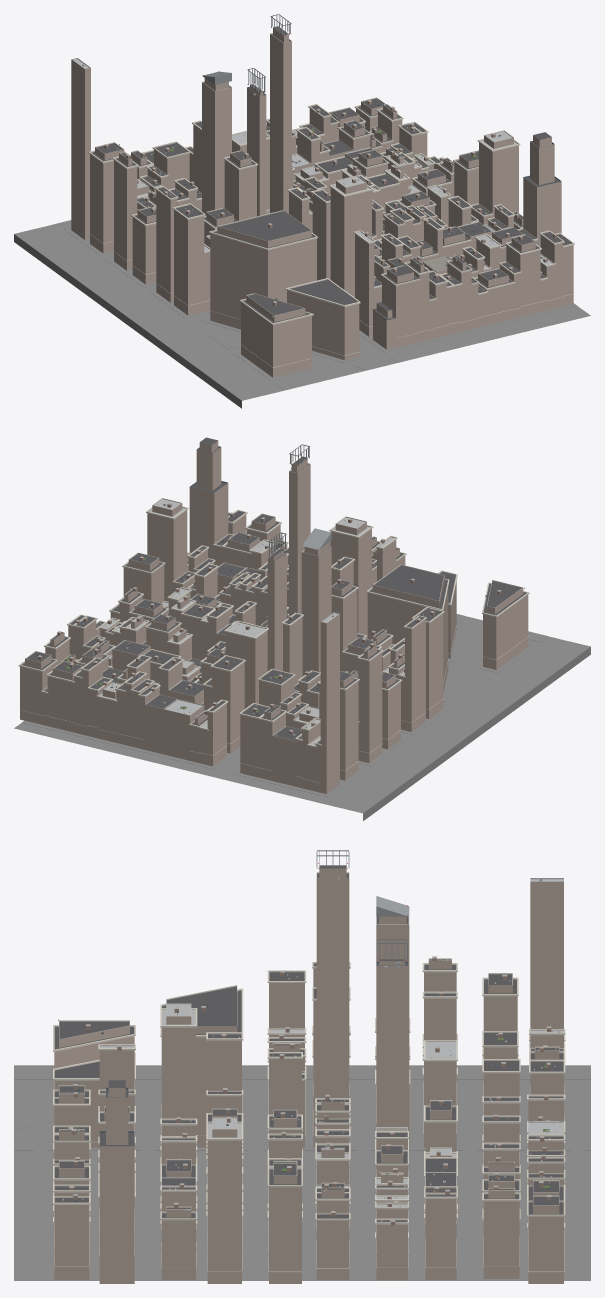
3 views of the same model, one above another, from view 1: azimuth 30°, elevation 25°; view 2: azimuth 150°, elevation 25°; view 3: azimuth 270°, elevation 25° (orthographic). The views are drawn at different scales.
Visible parts, largest first — view 1: t01_facade, t01_ground, t01_roof, t01_detail; view 2: t01_facade, t01_ground, t01_roof, t01_detail; view 3: t01_facade, t01_ground, t01_detail, t01_roof.
Part boxes in pixels (<box>): t01_facade: <box>71,27,573,377</box>; t01_ground: <box>14,220,590,408</box>; t01_roof: <box>73,14,571,323</box>; t01_detail: <box>72,33,574,367</box>; t01_facade: <box>20,441,528,794</box>; t01_ground: <box>14,614,590,820</box>; t01_roof: <box>22,437,526,745</box>; t01_detail: <box>18,446,529,783</box>; t01_facade: <box>54,868,563,1283</box>; t01_ground: <box>14,1065,590,1280</box>; t01_detail: <box>53,872,565,1272</box>; t01_roof: <box>54,850,563,1222</box>.
Size of the model in its own units: 386 by 267 by 430.
